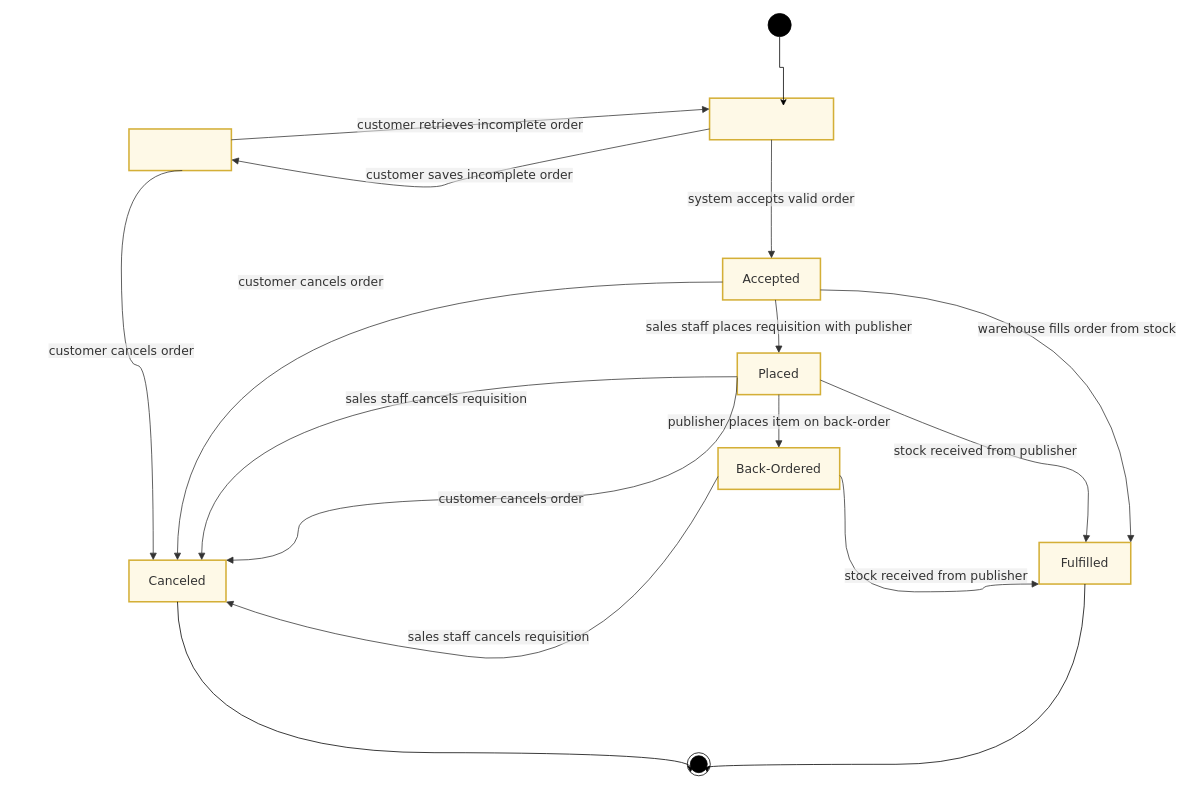
This 1189x789 diagram has some shape labels left out. The shapes that lost their labels are listed below. From the top down, each one's centre as x and y in pixels, then its label:
(771,118): In Preparation
(180,149): Postponed
